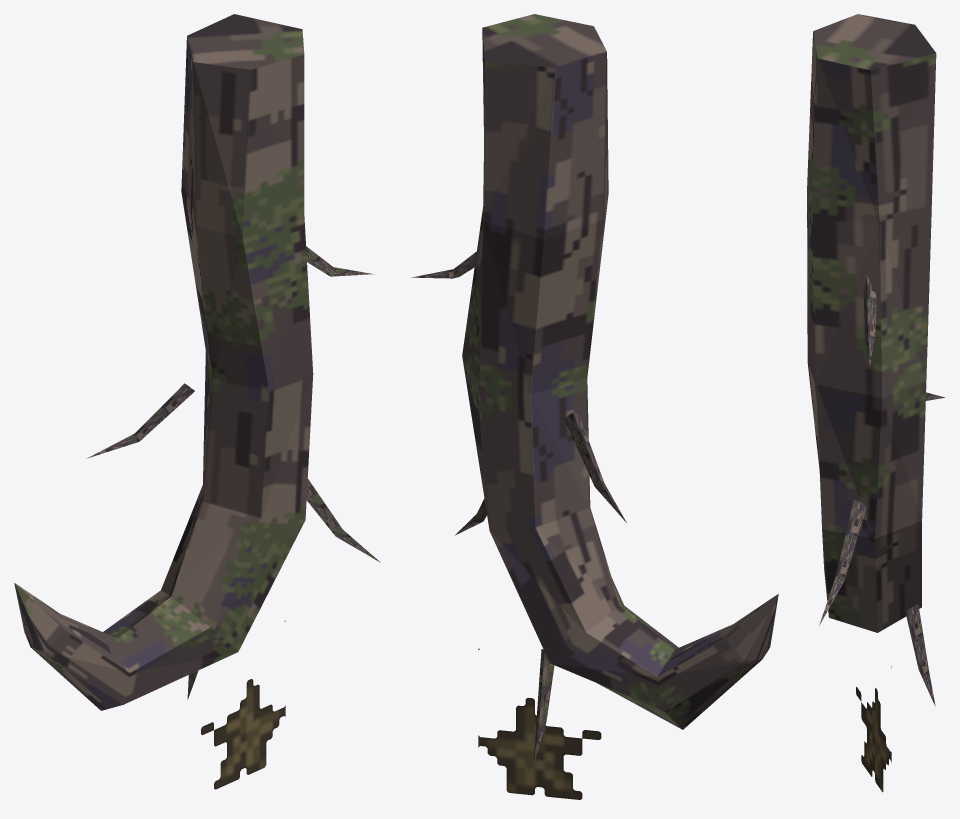
The model's file is SM_CV_HangingRootsC.fbx.
The picture shows the model from 3 angles, left to right: view 1: azimuth 30°, elevation 25°; view 2: azimuth 150°, elevation 25°; view 3: azimuth 270°, elevation 25°; orthographic projection. The views are drawn at different scales.
Parts seen in each view (by area): view 1: CV_HangingRootsC_Root; view 2: CV_HangingRootsC_Root; view 3: CV_HangingRootsC_Root.
Boxes of the visible parts, left/top/right/bottom form: CV_HangingRootsC_Root: left=14, top=14, right=380, bottom=789; CV_HangingRootsC_Root: left=411, top=14, right=778, bottom=799; CV_HangingRootsC_Root: left=807, top=14, right=944, bottom=792.
Size of the model in its own units: 0.82 by 1.6 by 0.2731.
